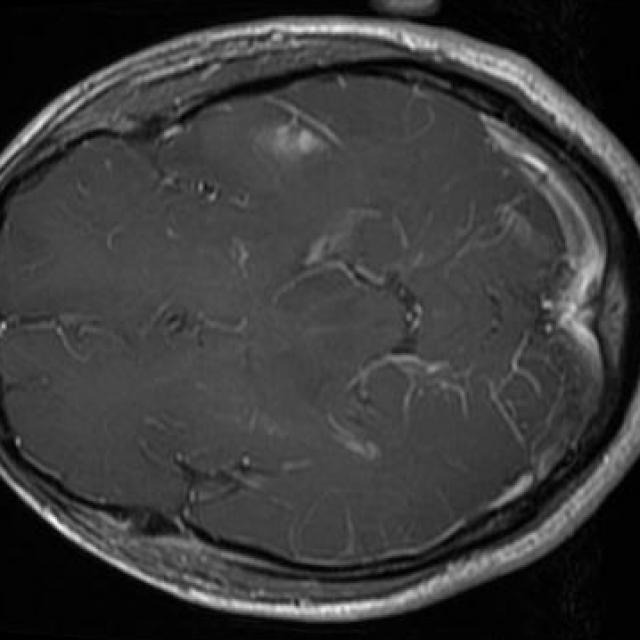glioma: (253, 100, 346, 166)
